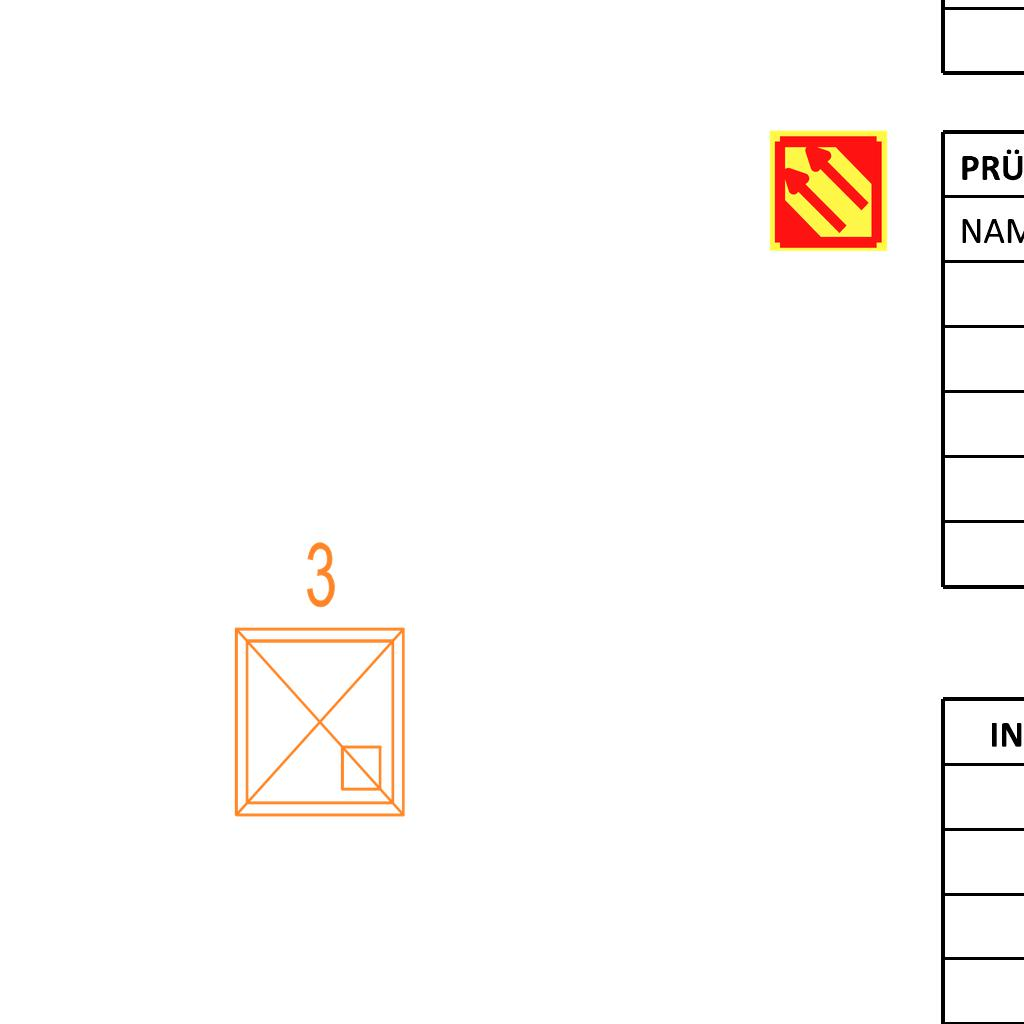ASR_Ansaugrauchmelder: (766, 128, 891, 253)
Einbaudownlights_LED_Konferenzraeume: (212, 531, 420, 831)
